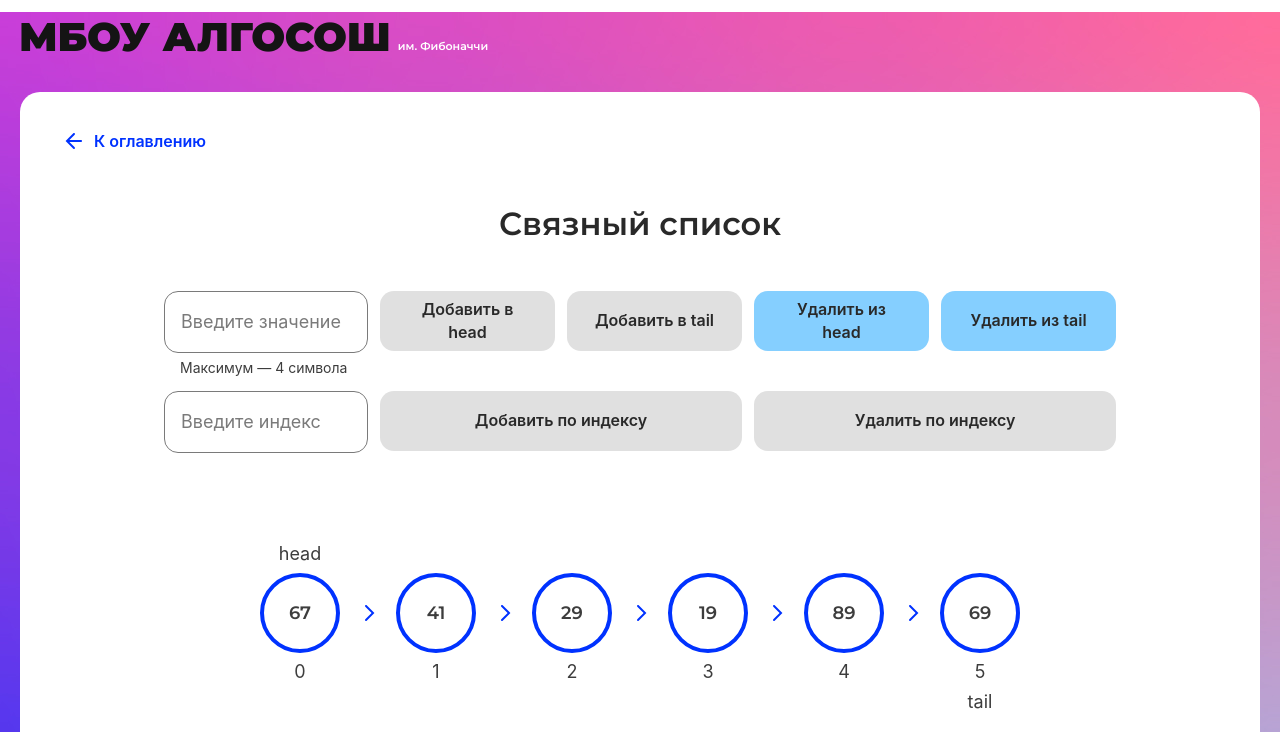
Тесты страницы связного списка › Проверка состояний кнопок › Кнопки добавления/удаления верно меняют значение атрибута disabled
Expected: the button "Добавить в head" is disabled, x1=380 y1=291 x2=555 y2=351
Expected: the button "Добавить в tail" is disabled, x1=567 y1=291 x2=742 y2=351
Type "123" into the field named "value".
click(266, 322); type("123")  # box x1=164 y1=291 x2=368 y2=353
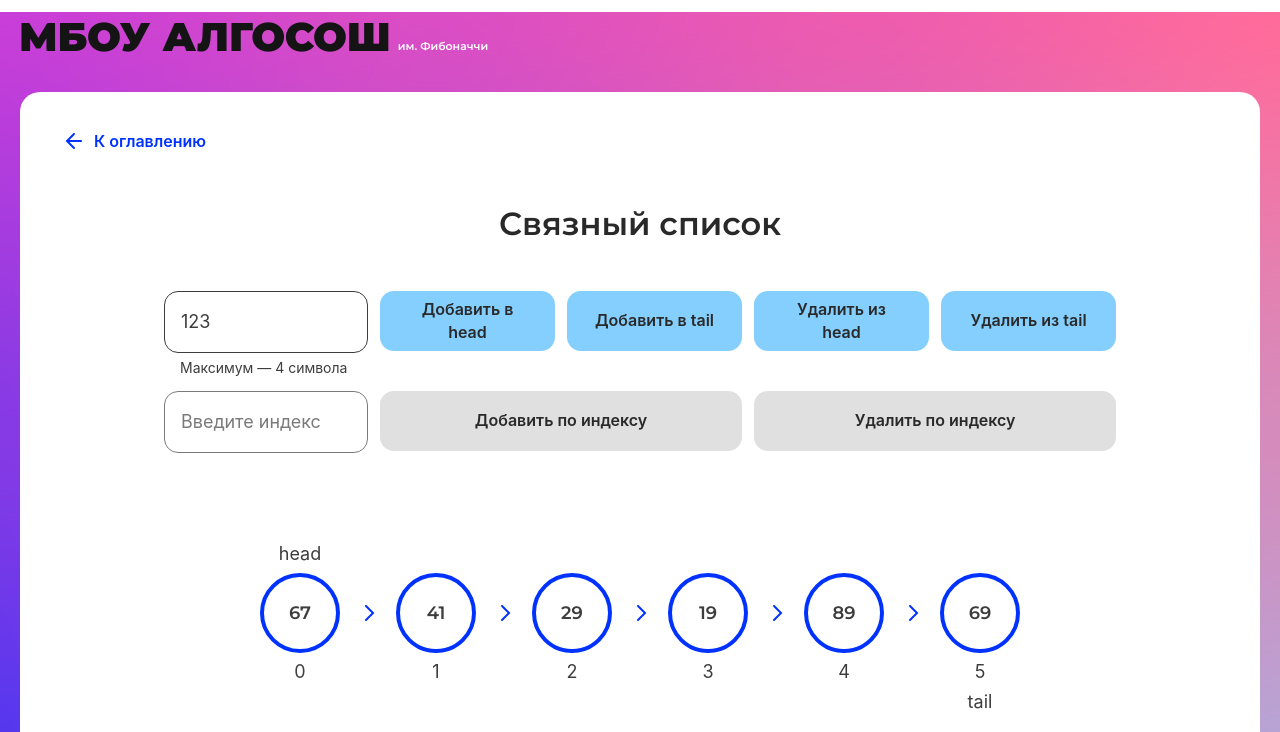
Expected: the text "Добавить в head" is enabled
Expected: the text "Добавить в tail" is enabled
Clear the field named "value" at (266, 322), box x1=164 y1=291 x2=368 y2=353
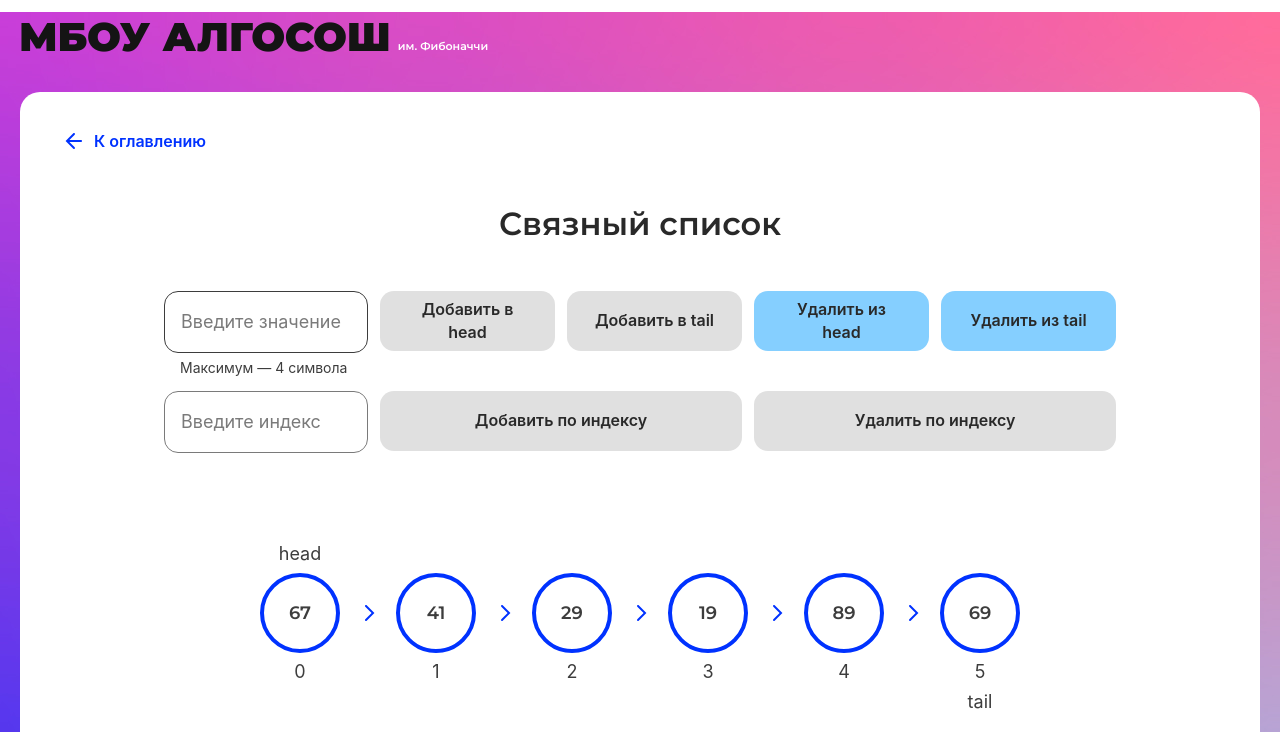
Expected: the text "Удалить из head" is enabled
Expected: the button "Добавить в head" is disabled, x1=380 y1=291 x2=555 y2=351
Expected: the button "Добавить в tail" is disabled, x1=567 y1=291 x2=742 y2=351
